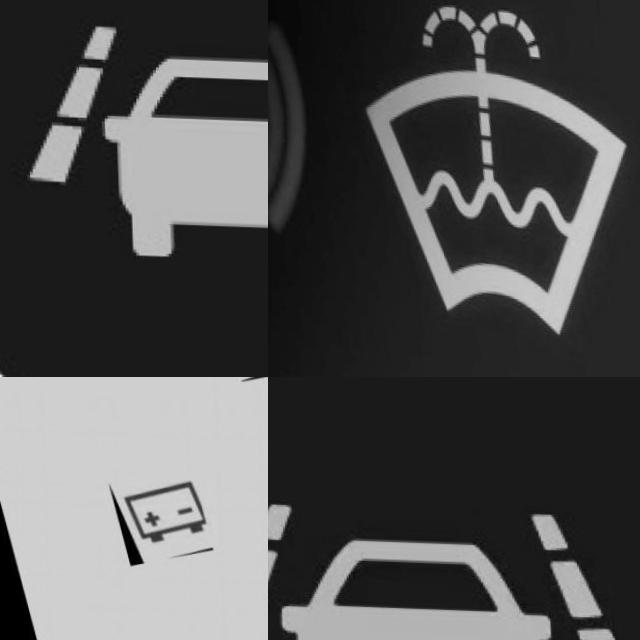Washer Fluid: (359, 0, 630, 332)
